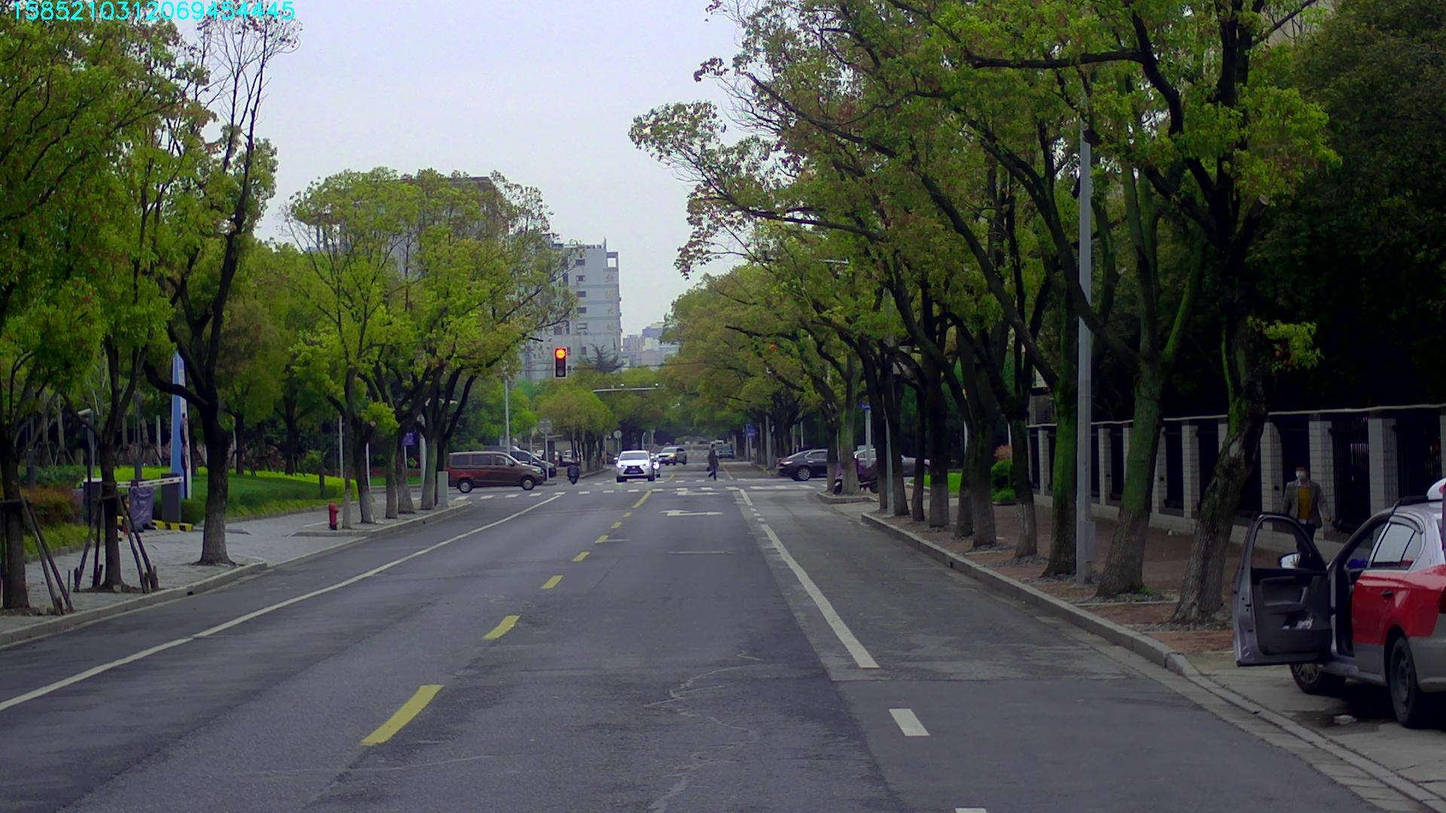red: (554, 346, 566, 376)
